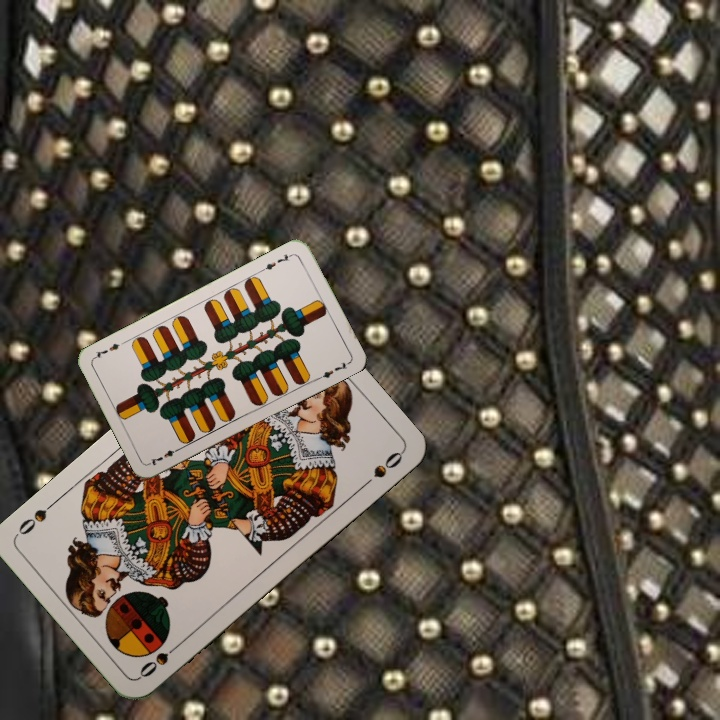E7: (258, 249, 296, 274), (146, 443, 184, 468)
SO: (135, 637, 185, 680)
